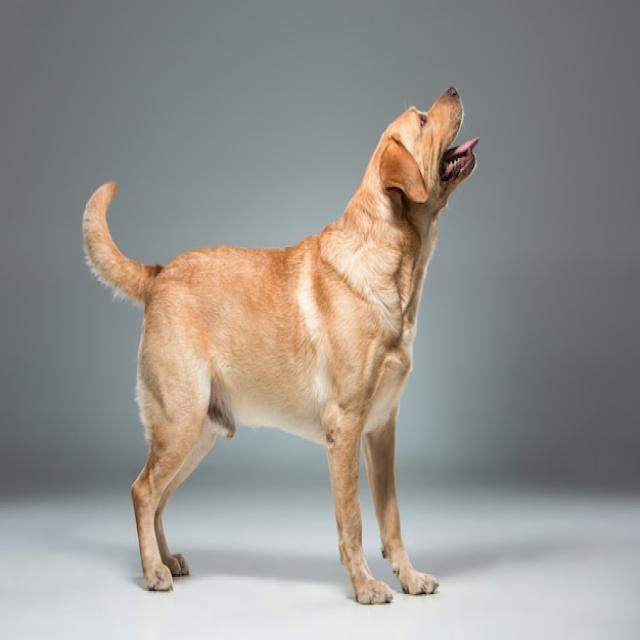Dog: (82, 88, 480, 604)
